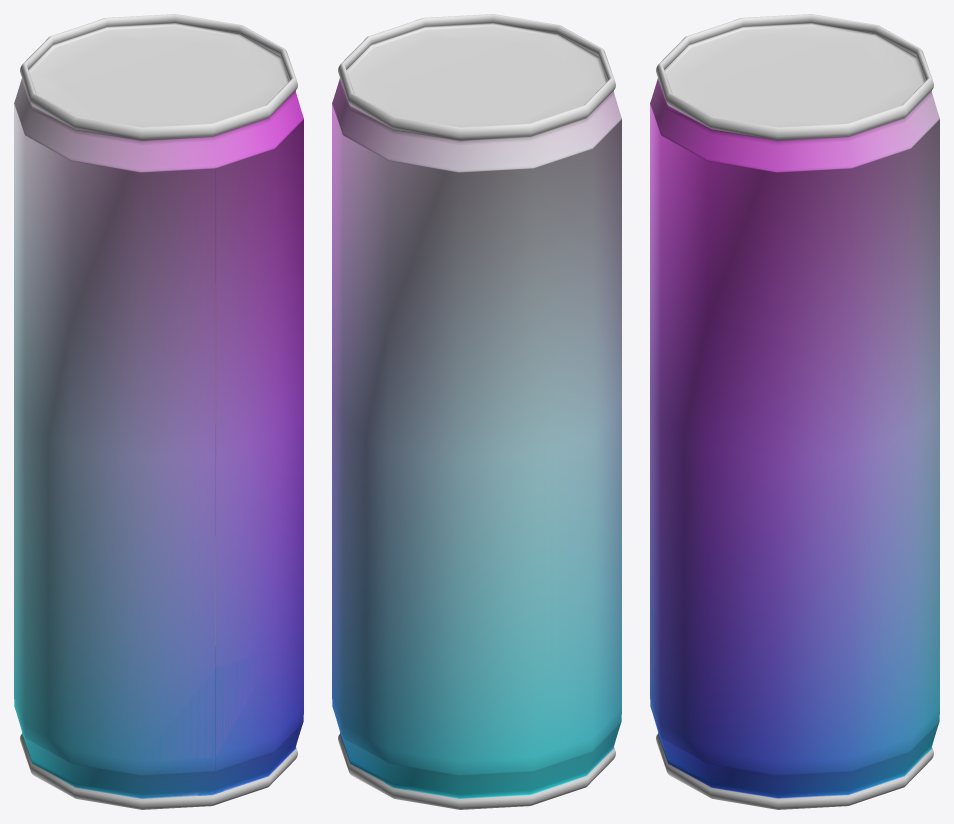
Rendered from EnergyDrink.fbx.
3 renders of one model, left to right at view 1: azimuth 30°, elevation 25°; view 2: azimuth 150°, elevation 25°; view 3: azimuth 270°, elevation 25°, orthographic.
Parts seen in each view (by area): view 1: Can backup; view 2: Can backup; view 3: Can backup.
Boxes of the visible parts, x1,y1,x2,y2 form: Can backup: (14, 14, 303, 809); Can backup: (332, 14, 621, 809); Can backup: (650, 14, 939, 809).
Size of the model in its own units: 7.07 by 18.46 by 7.1.
